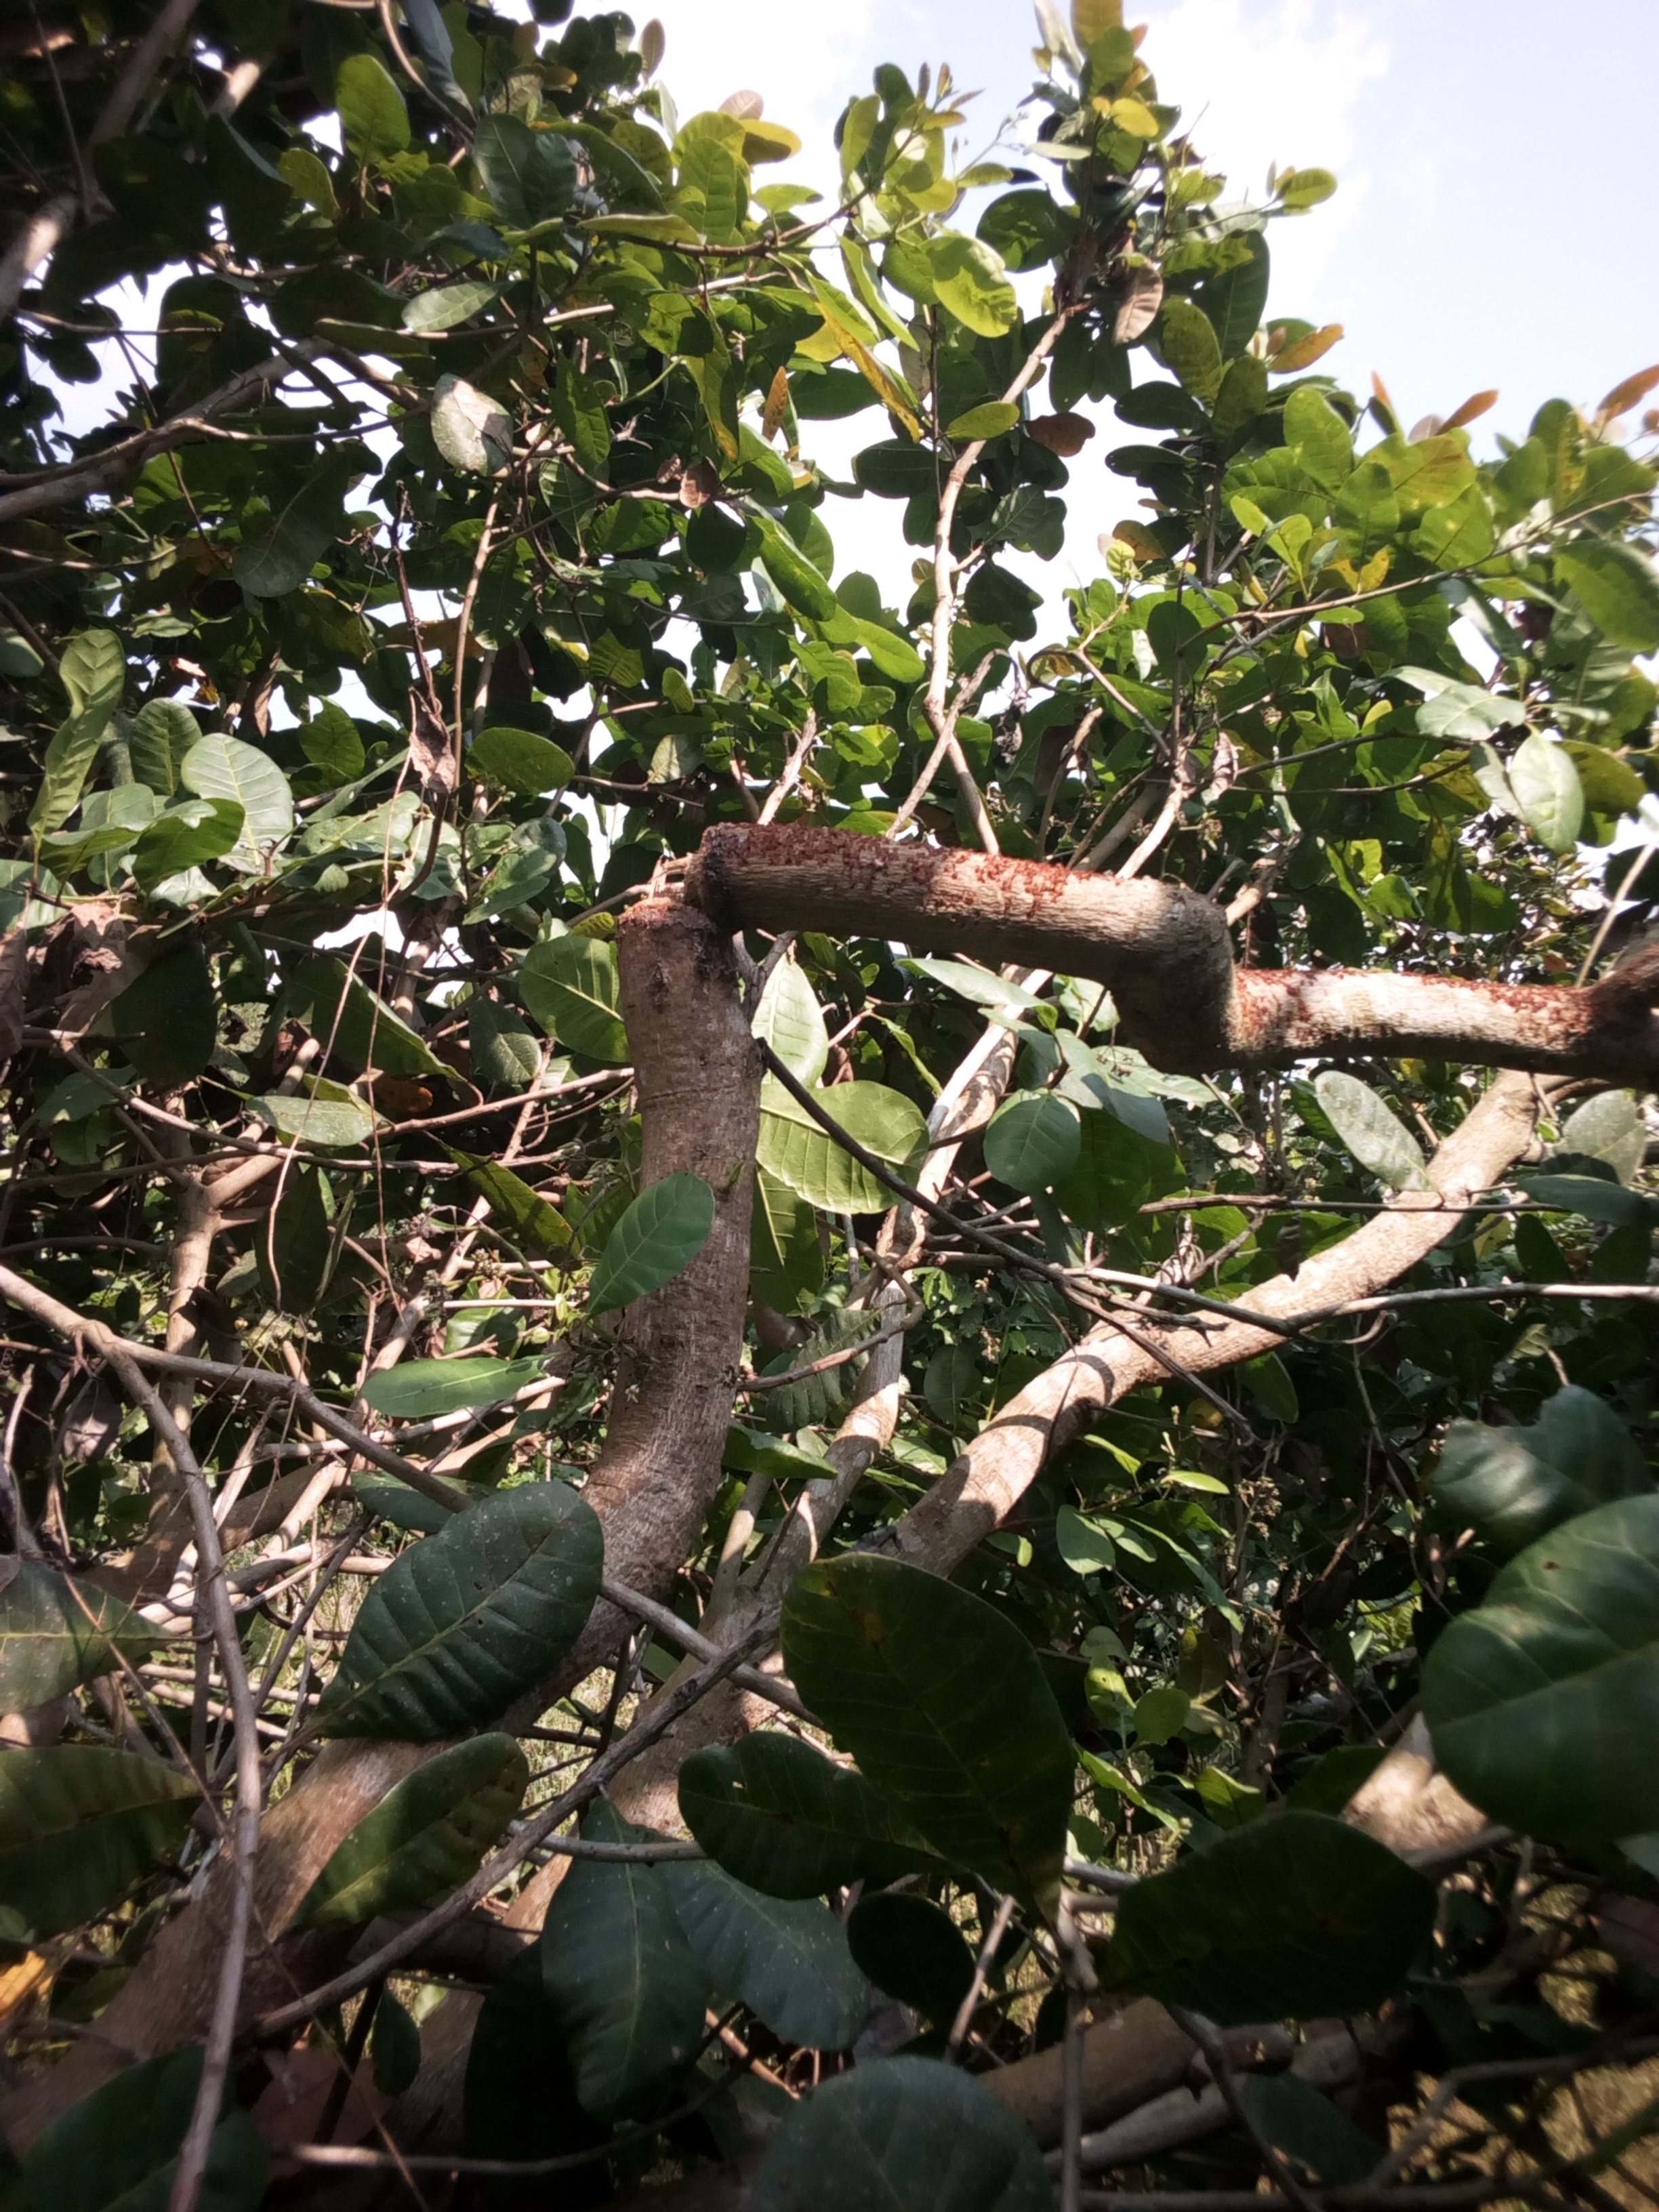Analepse trifasciata: (599, 808, 857, 1012)
